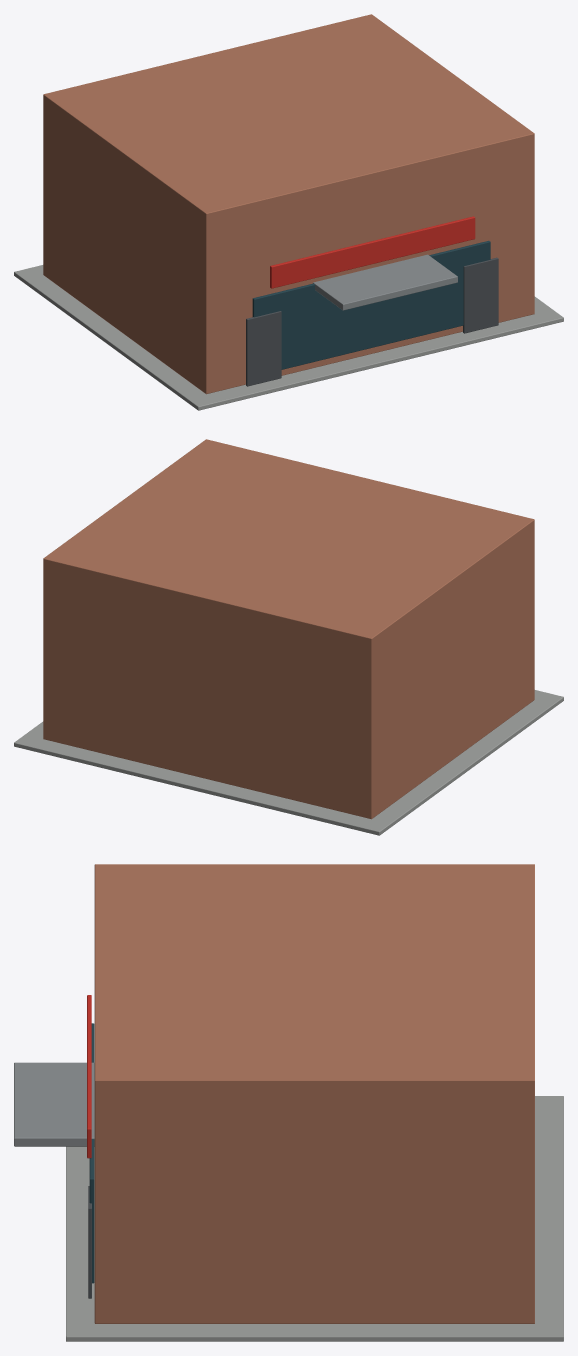
File: Building_Commercial_006.glb
3 views of the same model, one above another, from view 1: azimuth 30°, elevation 25°; view 2: azimuth 150°, elevation 25°; view 3: azimuth 270°, elevation 25° (orthographic). The views are drawn at different scales.
Parts seen in each view (by area): view 1: Building_Commercial_006; view 2: Building_Commercial_006; view 3: Building_Commercial_006.
Part boxes in pixels (x1,y1,x2,y2): Building_Commercial_006: (14, 14, 563, 410); Building_Commercial_006: (14, 439, 563, 835); Building_Commercial_006: (14, 864, 563, 1341).
Size of the model in its own units: 14.82 by 7.16 by 14.3.
